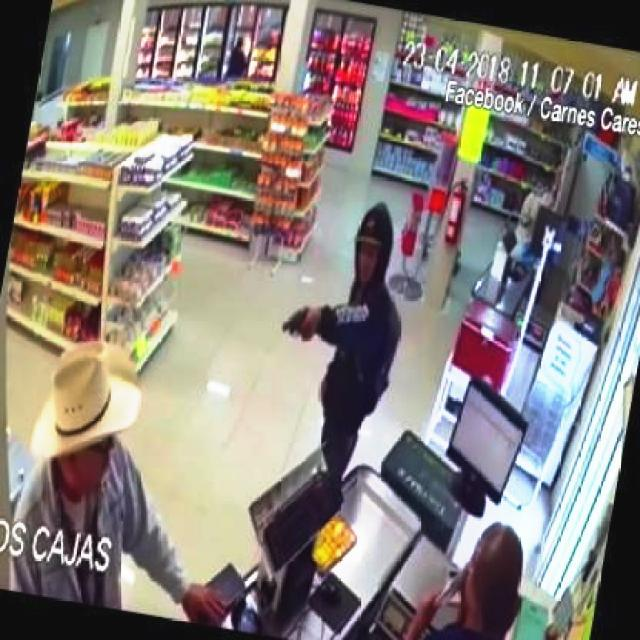Gun: (272, 294, 328, 353)
